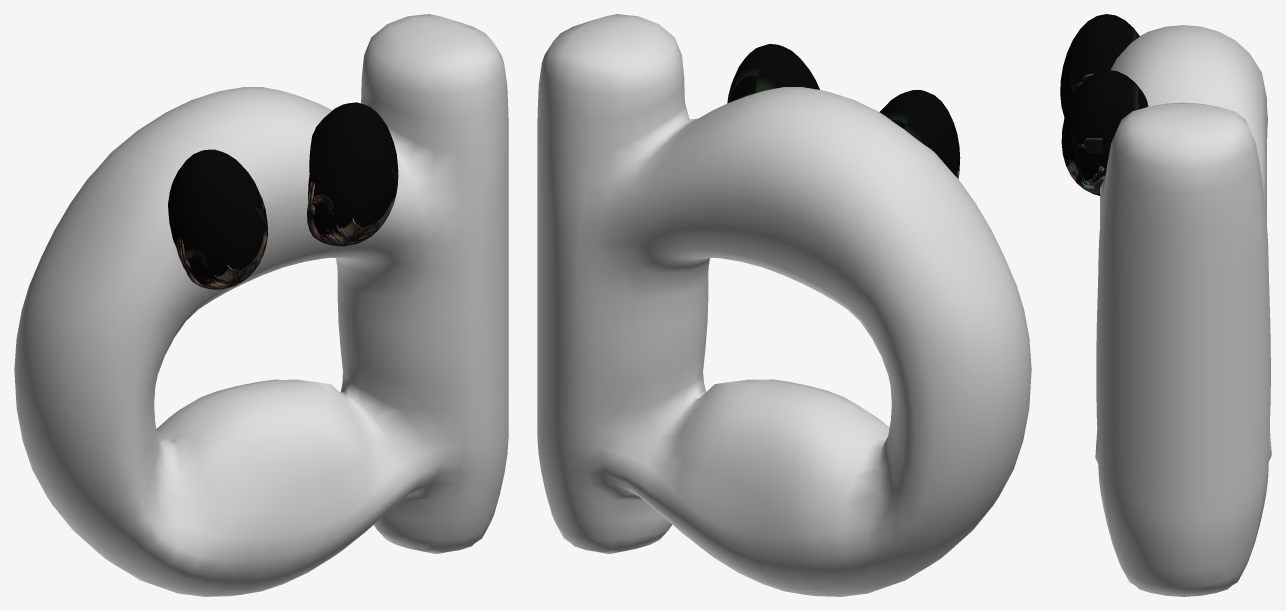
Rendered from huruf a.FBX.
3 views of the same model, side by side, from view 1: azimuth 30°, elevation 25°; view 2: azimuth 150°, elevation 25°; view 3: azimuth 270°, elevation 25° (orthographic). The views are drawn at different scales.
Visible parts, largest first — view 1: Box001, Sphere003, Sphere002; view 2: Box001, Sphere003, Sphere002; view 3: Box001, Sphere002, Sphere003.
Part boxes in pixels (left/top/right/bottom): Box001: left=14, top=14, right=508, bottom=596; Sphere003: left=168, top=149, right=267, bottom=289; Sphere002: left=307, top=102, right=398, bottom=246; Box001: left=537, top=14, right=1031, bottom=596; Sphere003: left=879, top=90, right=960, bottom=178; Sphere002: left=727, top=44, right=819, bottom=103; Box001: left=1095, top=25, right=1271, bottom=596; Sphere002: left=1061, top=70, right=1148, bottom=195; Sphere003: left=1060, top=14, right=1139, bottom=117.
Bounding box in the file's own units: 10.25 × 10.42 × 4.25.
2 materials, 2 textured.
